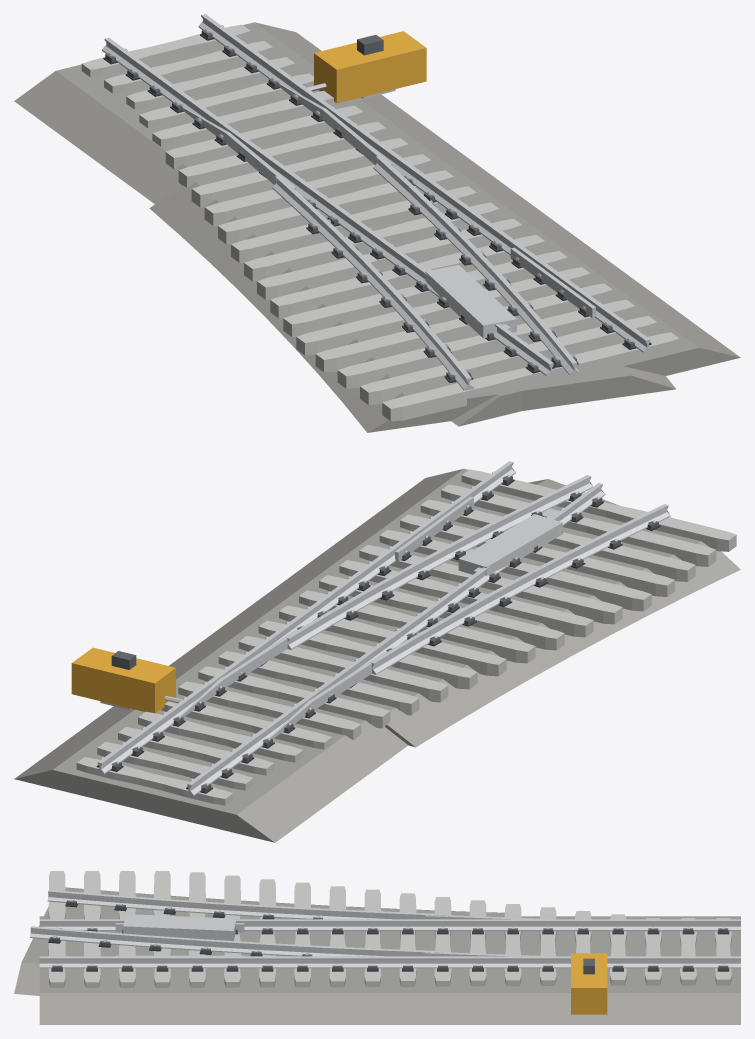
The model's file is modern-rail-and-metro-network-turnout-left-5e5b2d60__13687.glb.
3 views of the same model, one above another, from view 1: azimuth 30°, elevation 25°; view 2: azimuth 150°, elevation 25°; view 3: azimuth 270°, elevation 25° (orthographic). The views are drawn at different scales.
Visible parts, largest first — view 1: turnout-left; view 2: turnout-left; view 3: turnout-left.
Boxes of the visible parts, <box> form: turnout-left: <box>14,14,740,432</box>; turnout-left: <box>14,461,740,842</box>; turnout-left: <box>14,871,740,1024</box>.
Size of the model in its own units: 5.92 by 1.02 by 12.44.
